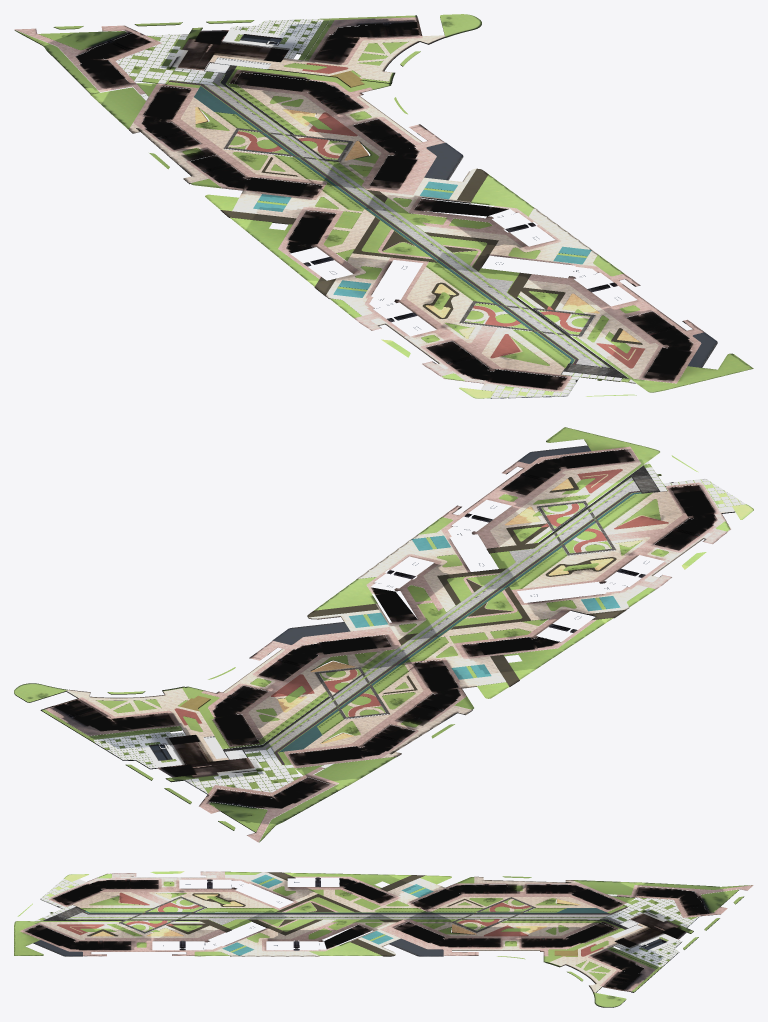
Rendered from Yaafour_background.glb.
The picture shows the model from 3 angles, top to bottom: view 1: azimuth 30°, elevation 25°; view 2: azimuth 150°, elevation 25°; view 3: azimuth 270°, elevation 25°; orthographic projection. The views are drawn at different scales.
Visible parts, largest first — view 1: background; view 2: background; view 3: background.
Boxes of the visible parts, x1,y1,x2,y2 form: background: [14, 14, 753, 398]; background: [14, 427, 753, 842]; background: [14, 871, 753, 1007].
Size of the model in its own units: 309 by 3.7 by 708.
3 materials, 3 textured.
